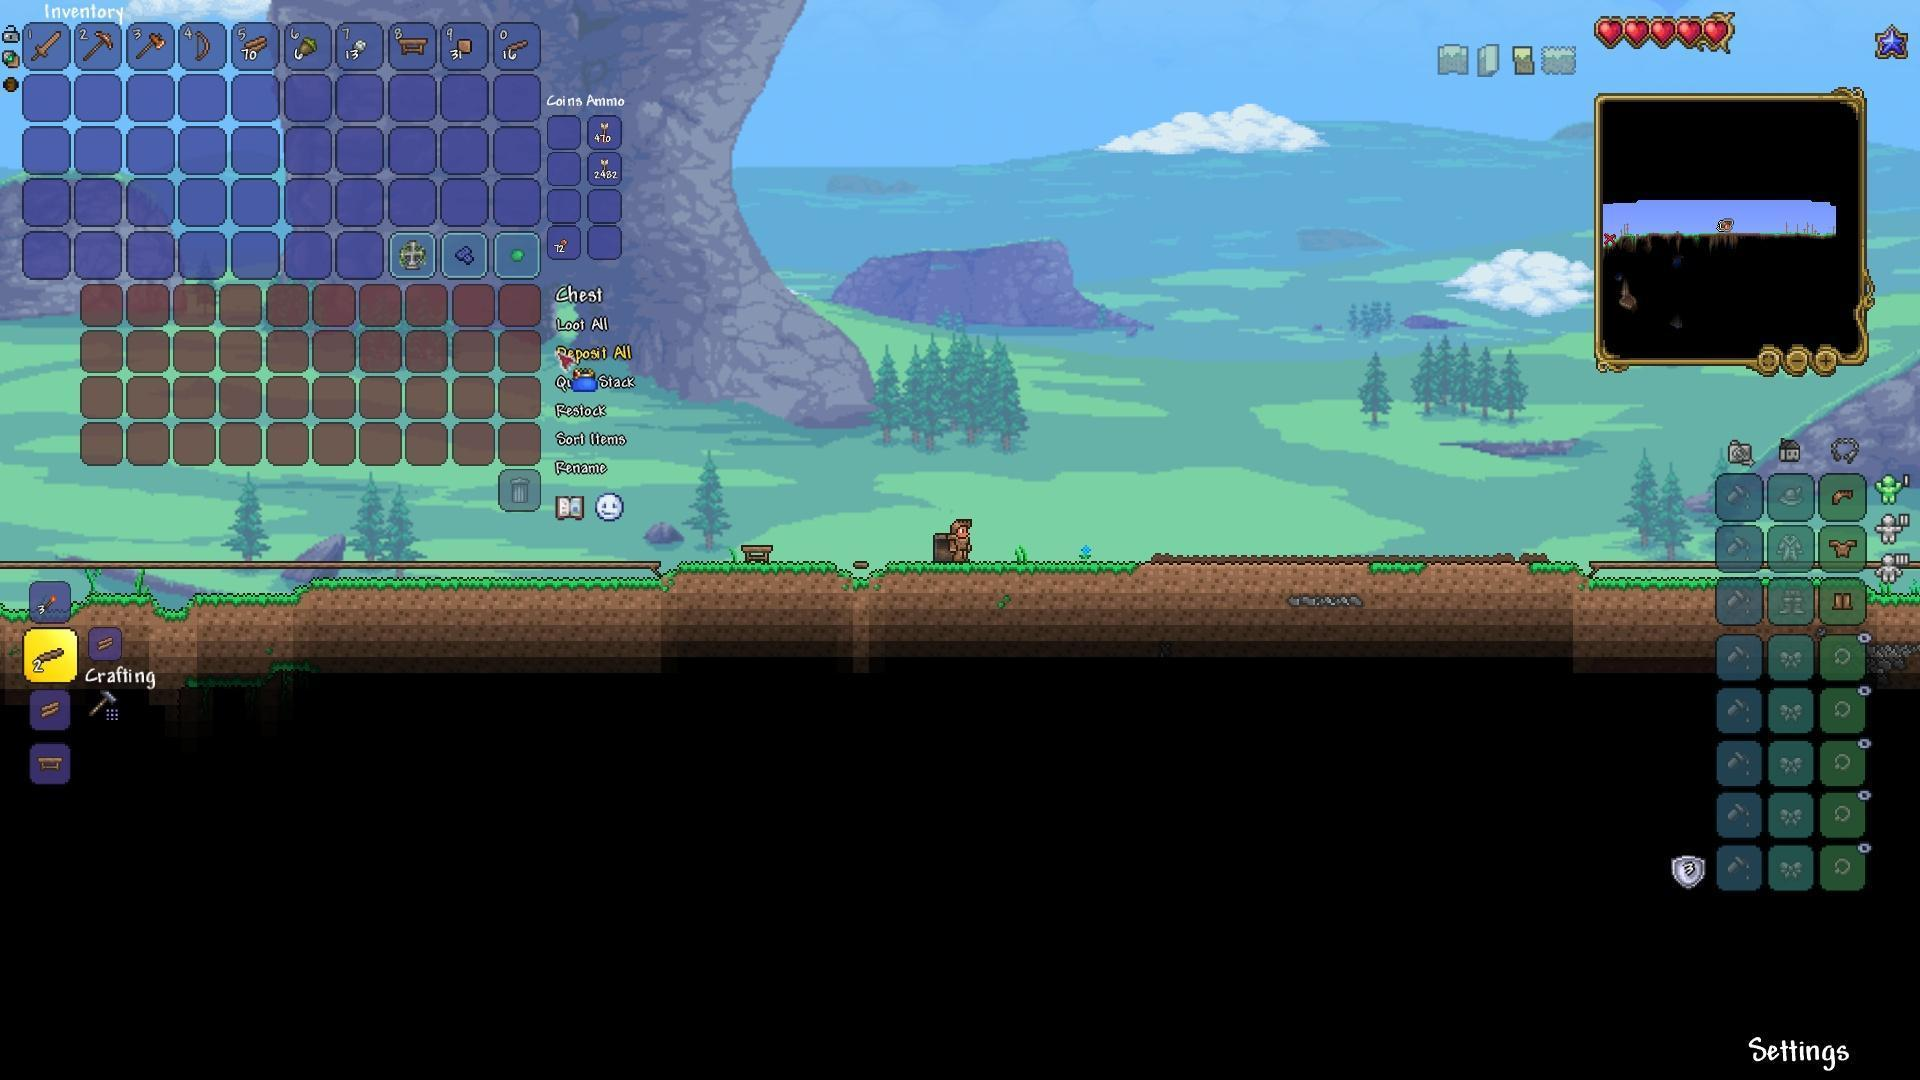breastplate: (1828, 537, 1858, 556)
helmet: (1826, 483, 1858, 512)
legs: (1830, 587, 1857, 616)
wood: (88, 628, 120, 658), (37, 695, 66, 721), (243, 34, 270, 59)
workbench: (740, 539, 777, 564), (393, 32, 430, 57), (36, 752, 67, 775)
